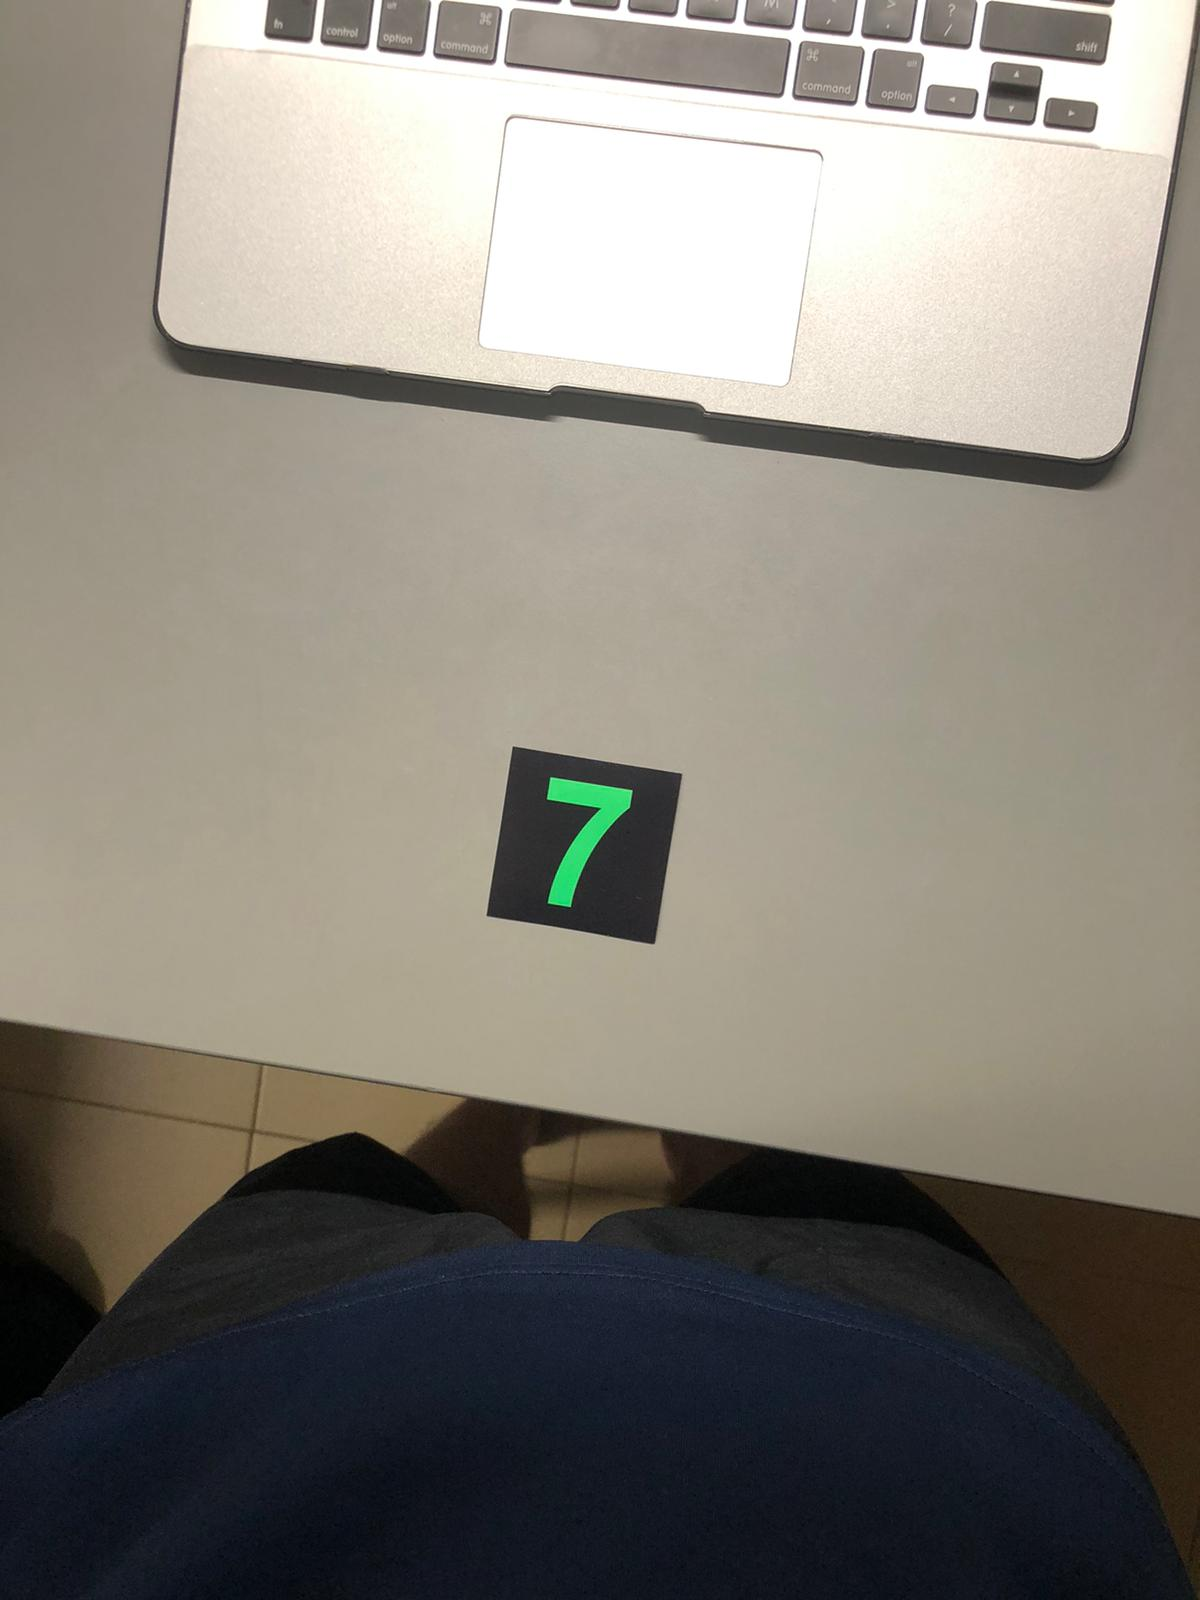Number 7: (497, 746, 666, 940)
